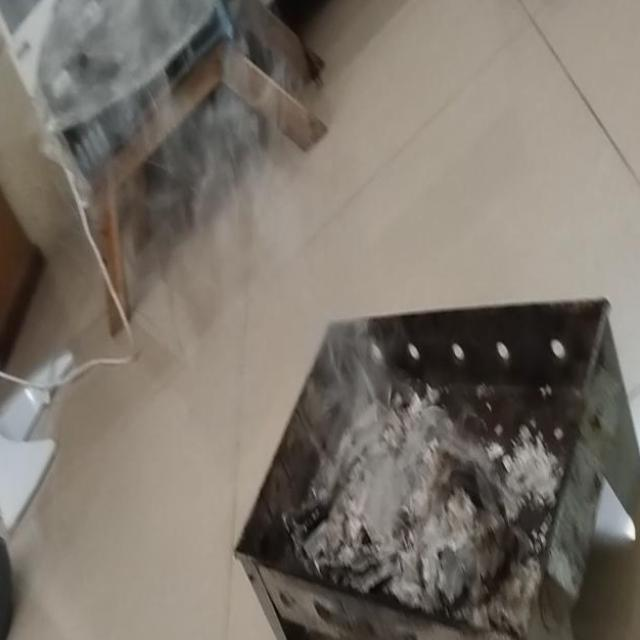fire: (296, 290, 426, 547), (196, 28, 288, 287)
